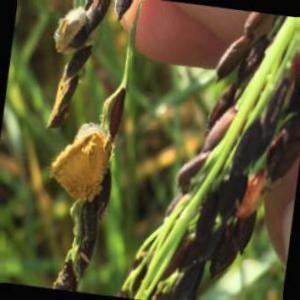Leaf_Scald: (58, 128, 122, 189), (232, 178, 273, 227)
